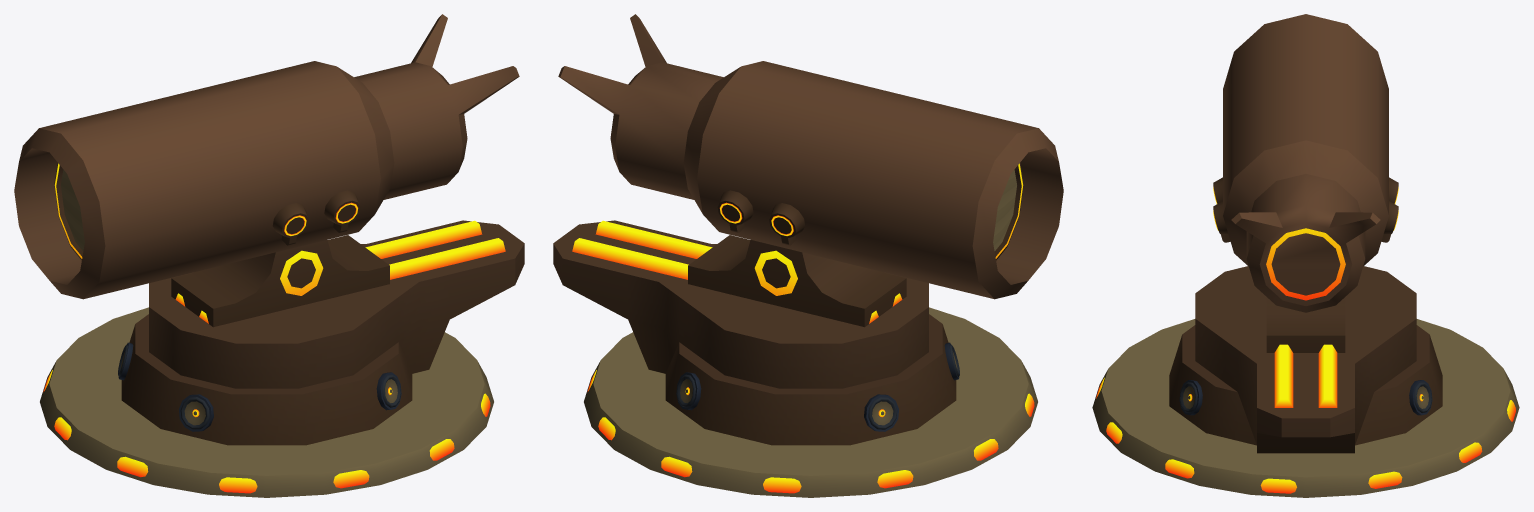
Rendered from yellow_02.fbx.
3 views of the same model, side by side, from view 1: azimuth 30°, elevation 25°; view 2: azimuth 150°, elevation 25°; view 3: azimuth 270°, elevation 25° (orthographic). The views are drawn at different scales.
Visible parts, largest first — view 1: Plane.014, Circle.018, yellow_02; view 2: Plane.014, Circle.018, yellow_02; view 3: Plane.014, Circle.018, yellow_02.
Boxes of the visible parts, x1=… form: Plane.014: x1=14, y1=14, x2=519, y2=327; Circle.018: x1=118, y1=220, x2=524, y2=445; yellow_02: x1=40, y1=307, x2=493, y2=497; Plane.014: x1=558, y1=14, x2=1063, y2=327; Circle.018: x1=553, y1=220, x2=959, y2=445; yellow_02: x1=584, y1=307, x2=1037, y2=497; Plane.014: x1=1213, y1=14, x2=1398, y2=352; Circle.018: x1=1169, y1=266, x2=1442, y2=453; yellow_02: x1=1092, y1=319, x2=1519, y2=497.
Bounding box in the file's own units: 604 × 398 × 514.
